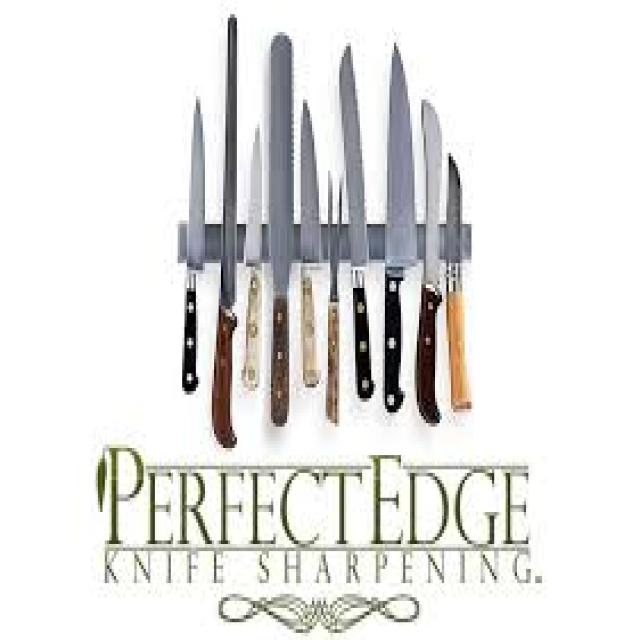knives: (171, 11, 478, 444)
